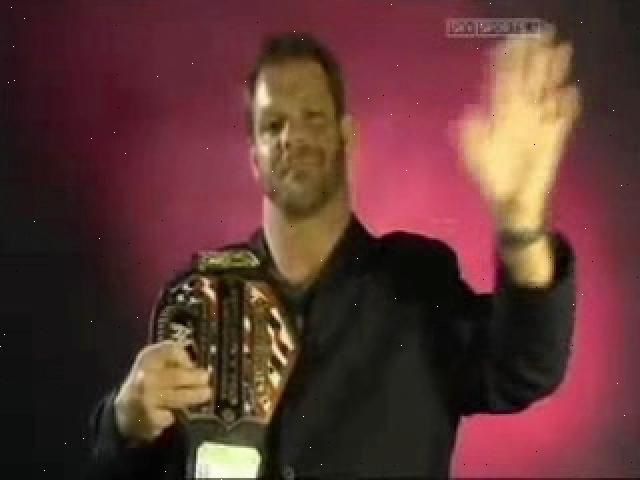L: (85, 30, 577, 480)
